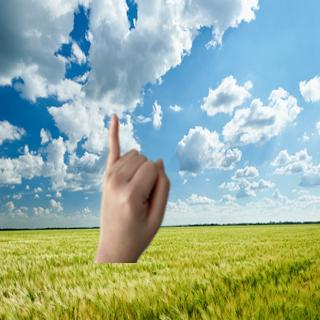FINE: (93, 111, 172, 255)
